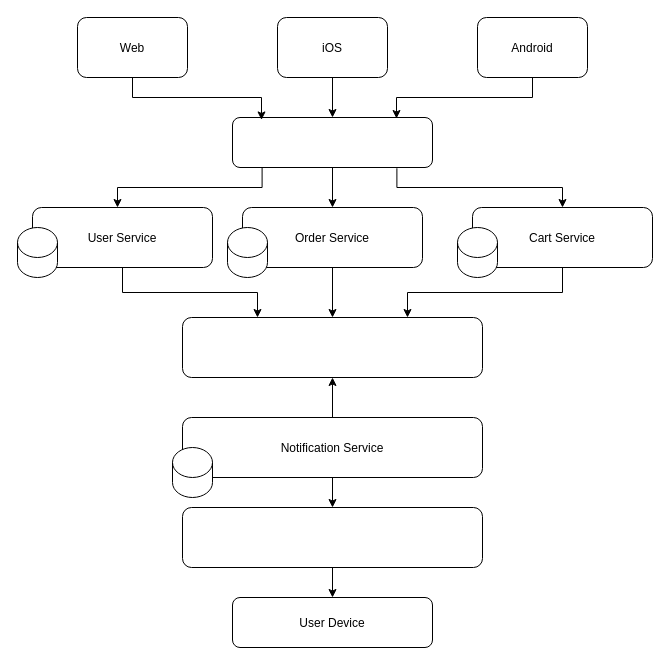
Image size: 670x665. Some labels were removed from this diagram. Here are the shapes that lost their labels. From the top down, the centre of each, then its label:
At point 332,142: "API Gateway".
At point 332,347: "Kafka".
At point 332,537: "Push Provider (APNS, FCM)".
